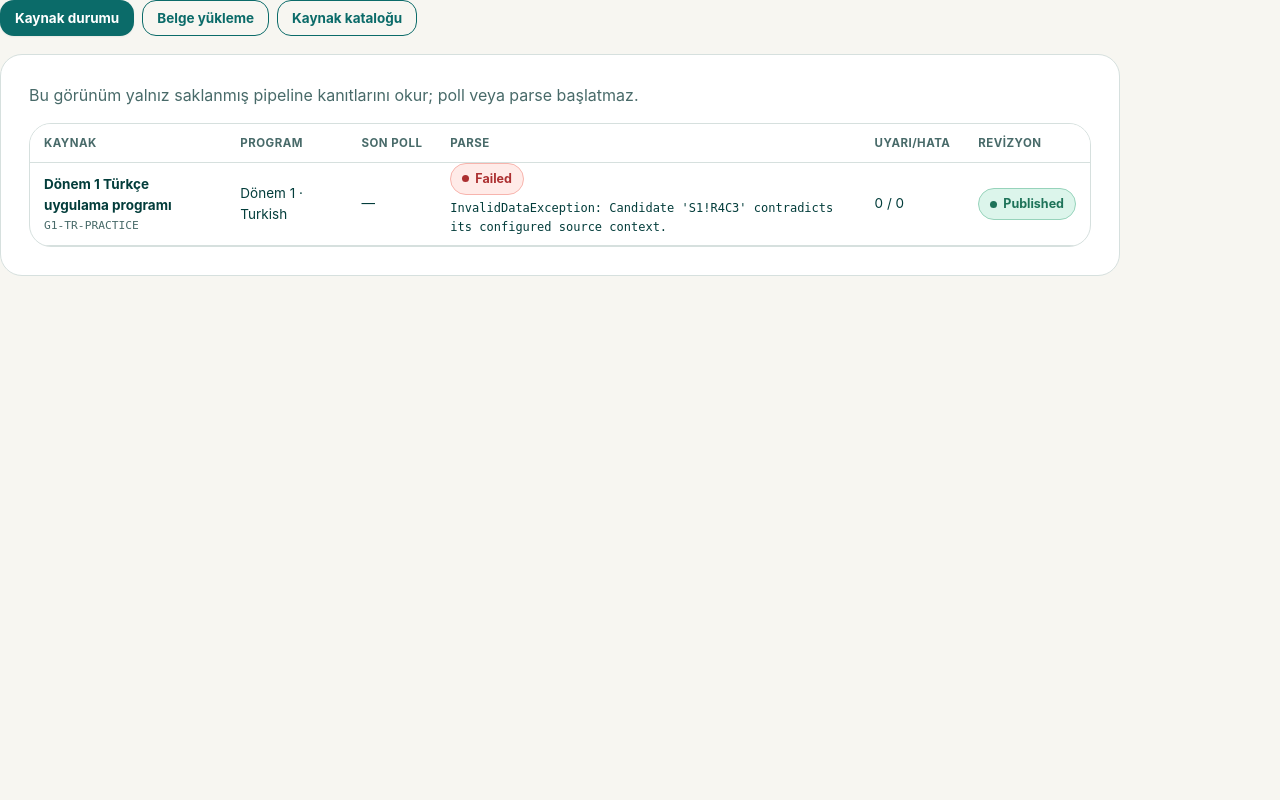
Test case: AdminSourceWorkspace › shows why the latest parse run failed, inline and in the detail
Step 1. Click the text "Dönem 1 Türkçe uygulama programı" → [96, 184], box [44,176,172,213]
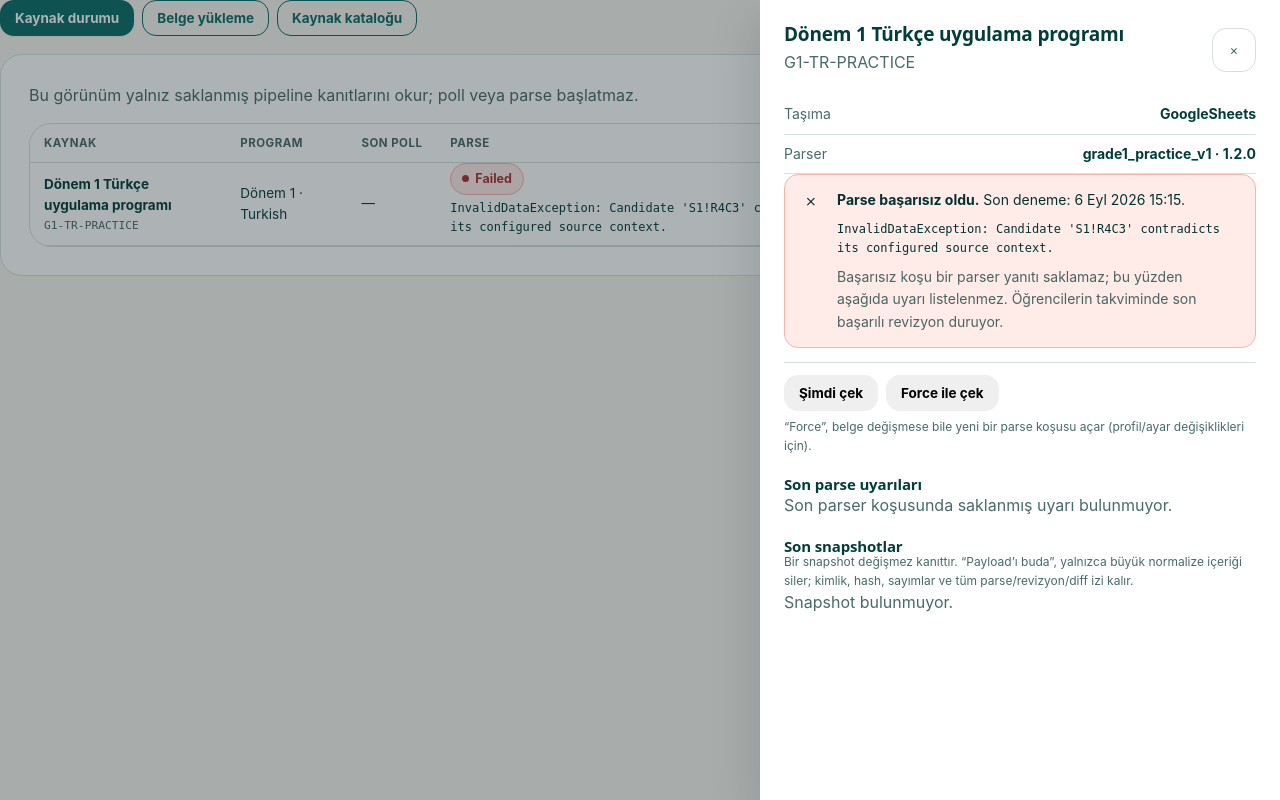
expect the text "Parse başarısız oldu." is shown: met, box [837,191,979,208]
